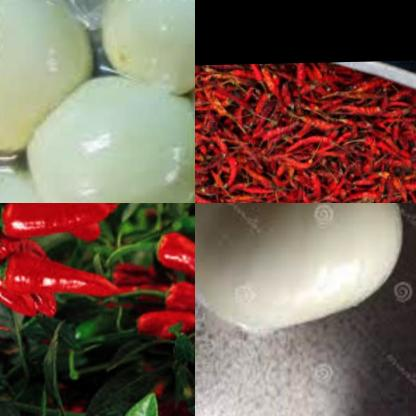hot pepper: (195, 60, 416, 203), (0, 241, 126, 304), (1, 203, 115, 236), (0, 257, 53, 321), (129, 295, 195, 345), (152, 227, 195, 293), (160, 273, 195, 314), (0, 299, 13, 344)
onion: (0, 0, 195, 203), (195, 203, 410, 341)
